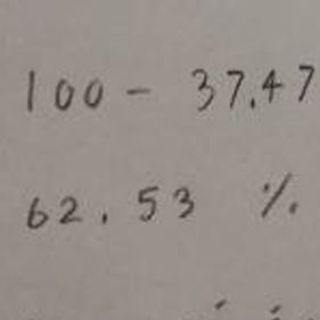.: (285, 199, 303, 218), (97, 210, 112, 227), (260, 179, 272, 195)
0: (53, 78, 75, 111), (82, 77, 104, 109)
1: (25, 66, 36, 114)
2: (58, 195, 84, 225)
3: (190, 67, 215, 113), (172, 186, 196, 219)
4: (260, 68, 284, 105)
5: (136, 184, 159, 222)
6: (26, 195, 51, 231)
7: (224, 68, 245, 111), (296, 63, 315, 104)
